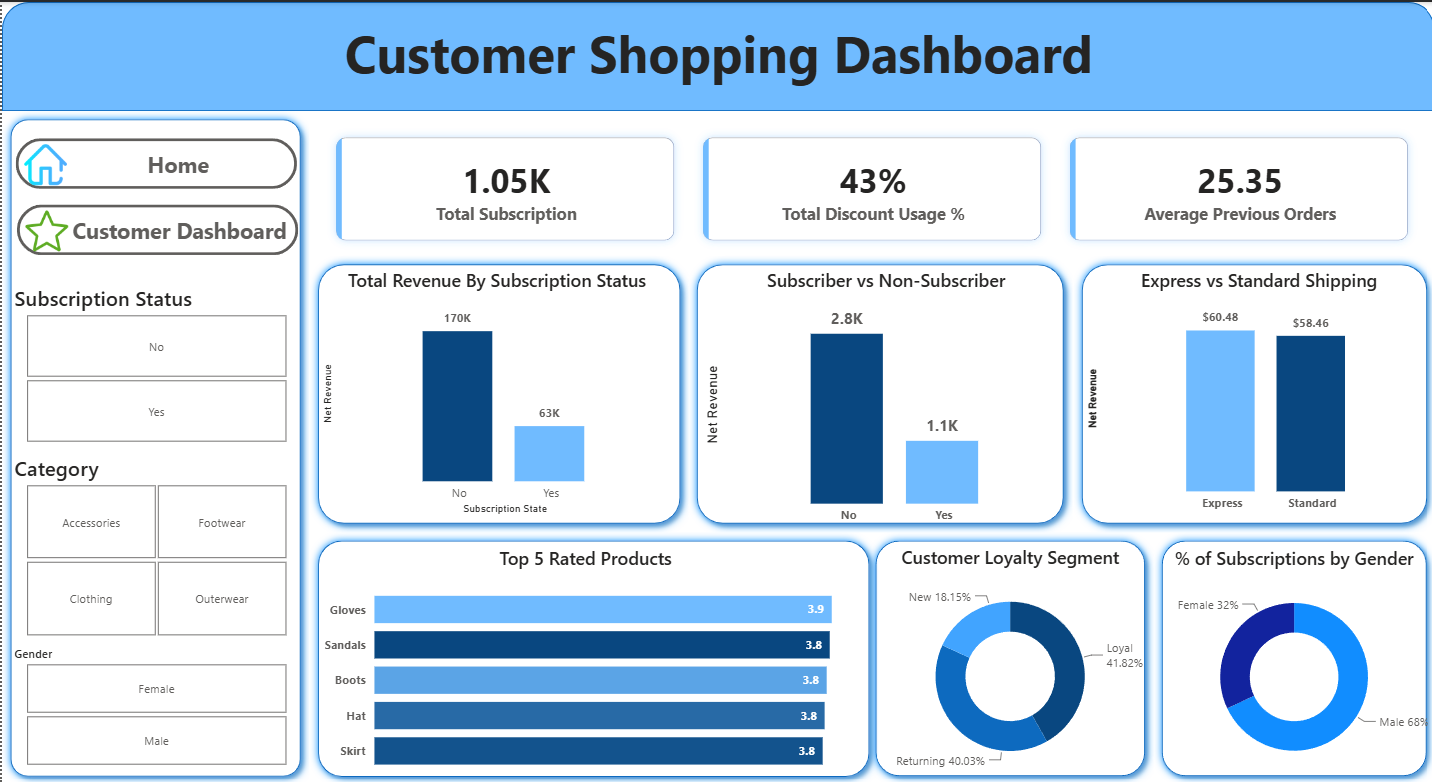

Layout of this report page (visuals, bound fields, positions):
{"tool":"powerbi","page":{"name":"Customer Dashboard","canvas":[1500,820],"ordinal":1},"visuals":[{"type":"shape","box":[1205.1,555,295.2,264.6],"z":0},{"type":"shape","box":[905,555,300.1,264.6],"z":1000},{"type":"cardVisual","fields":{"Data":["public customer_shopping_analysis.total_subscription","public customer_shopping_analysis.Total Discount Usage %","public customer_shopping_analysis.avg_previous_purchases"]},"box":[321.6,114.2,1178.7,164],"z":2000},{"type":"shape","box":[0,0,1500.3,114.2],"z":3000},{"type":"textbox","box":[0,11.3,1500.3,151.2],"z":4000},{"type":"shape","box":[321.6,265.3,397.2,289.5],"z":5000},{"type":"shape","box":[718.8,265.3,402,289.5],"z":6000},{"type":"shape","box":[1120.8,265.3,379.5,289.5],"z":7000},{"type":"donutChart","title":"% of Subscriptions by Gender","fields":{"Category":["public customer_shopping_analysis.gender"],"Y":["CountNonNull(public customer_shopping_analysis.subscription_status)"]},"box":[1205.1,569.5,295.2,250.1],"z":8000},{"type":"clusteredColumnChart","title":"Subscriber vs Non-Subscriber","fields":{"Y":["public customer_shopping_analysis.customer_count"],"Category":["public customer_shopping_analysis.subscription_status"]},"box":[730.1,279,390.8,276.6],"z":9000},{"type":"clusteredColumnChart","title":"Express vs Standard Shipping","fields":{"Category":["public customer_shopping_analysis.shipping_type"],"Y":["public customer_shopping_analysis.avg_revenue"]},"box":[1132.1,278.2,368.2,263.7],"z":10000},{"type":"shape","box":[0,114.2,321.6,705.9],"z":11000},{"type":"slicer","fields":{"Values":["public customer_shopping_analysis.subscription_status"]},"box":[0,291.1,321.6,176.9],"z":12000},{"type":"slicer","fields":{"Values":["public customer_shopping_analysis.category"]},"box":[0,467.9,321.6,201],"z":13000},{"type":"slicer","fields":{"Values":["public customer_shopping_analysis.gender"]},"box":[0,669,321.6,136.7],"z":14000},{"type":"shape","box":[321.6,554.8,595,265.3],"z":15000},{"type":"actionButton","box":[14.5,143.1,294.3,53.1],"z":16000},{"type":"actionButton","box":[16.1,212.3,294.3,53.1],"z":17000},{"type":"image","box":[14.4,147.8,62.2,44.4],"z":18000},{"type":"image","box":[15.6,216.7,62.2,44.4],"z":19000},{"type":"clusteredBarChart","title":"Top 5 Rated Products","fields":{"Category":["public customer_shopping_analysis.item_purchased"],"Y":["public customer_shopping_analysis.avg_review_rating"]},"box":[330.7,569.5,559.8,250.1],"z":20000},{"type":"donutChart","title":"Customer Loyalty Segment","fields":{"Category":["public customer_shopping_analysis.Customer Loyalty"],"Y":["public customer_shopping_analysis.customer_count"]},"box":[905,567.9,300.1,251.7],"z":21000},{"type":"clusteredColumnChart","title":"Total Revenue By Subscription Status","fields":{"Category":["public customer_shopping_analysis.subscription_status"],"Y":["public customer_shopping_analysis.net_revenue"]},"box":[330.7,279.1,374.3,263],"z":22000}]}

Visuals, with their boxes in screenshot pixels (x1, y1, x2, y2), scaled from the page's 1500x820 canvas onto the 1432x782 screenshot:
shape: detection(1150, 529, 1431, 781)
shape: detection(864, 529, 1150, 781)
cardVisual - public customer_shopping_analysis.total_subscription x public customer_shopping_analysis.Total Discount Usage %: detection(307, 109, 1431, 265)
shape: detection(0, 0, 1431, 109)
textbox: detection(0, 11, 1431, 155)
shape: detection(307, 253, 686, 529)
shape: detection(686, 253, 1070, 529)
shape: detection(1070, 253, 1431, 529)
"% of Subscriptions by Gender" donutChart: detection(1150, 543, 1431, 781)
"Subscriber vs Non-Subscriber" clusteredColumnChart: detection(697, 266, 1070, 530)
"Express vs Standard Shipping" clusteredColumnChart: detection(1081, 265, 1431, 517)
shape: detection(0, 109, 307, 781)
slicer - public customer_shopping_analysis.subscription_status: detection(0, 278, 307, 446)
slicer - public customer_shopping_analysis.category: detection(0, 446, 307, 638)
slicer - public customer_shopping_analysis.gender: detection(0, 638, 307, 768)
shape: detection(307, 529, 875, 781)
actionButton: detection(14, 136, 295, 187)
actionButton: detection(15, 202, 296, 253)
image: detection(14, 141, 73, 183)
image: detection(15, 207, 74, 249)
"Top 5 Rated Products" clusteredBarChart: detection(316, 543, 850, 781)
"Customer Loyalty Segment" donutChart: detection(864, 542, 1150, 781)
"Total Revenue By Subscription Status" clusteredColumnChart: detection(316, 266, 673, 517)
